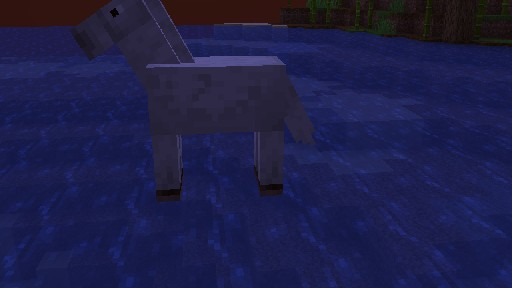horse: (69, 0, 319, 201)
